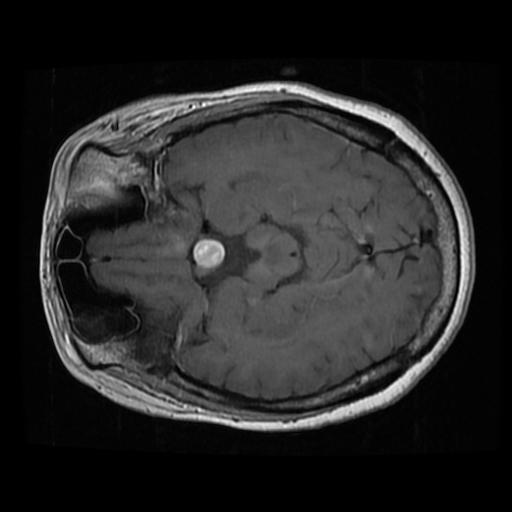pituitary tumour: (189, 237, 226, 272)
